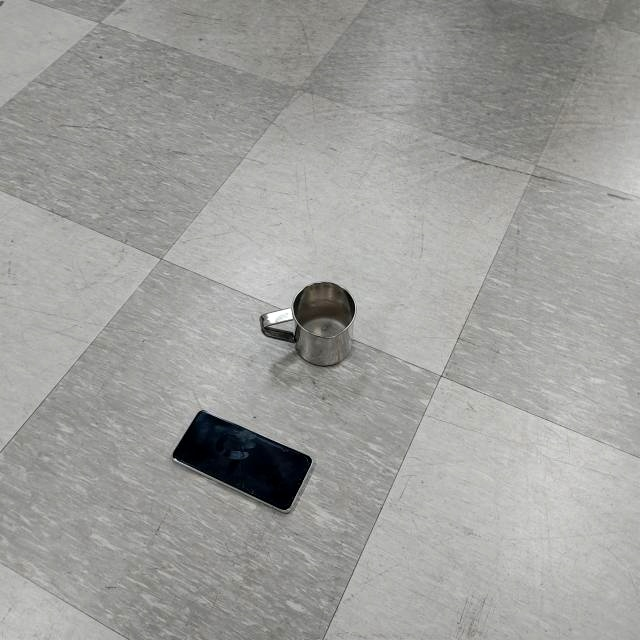cup: (259, 280, 359, 369)
phone: (170, 407, 320, 515)
